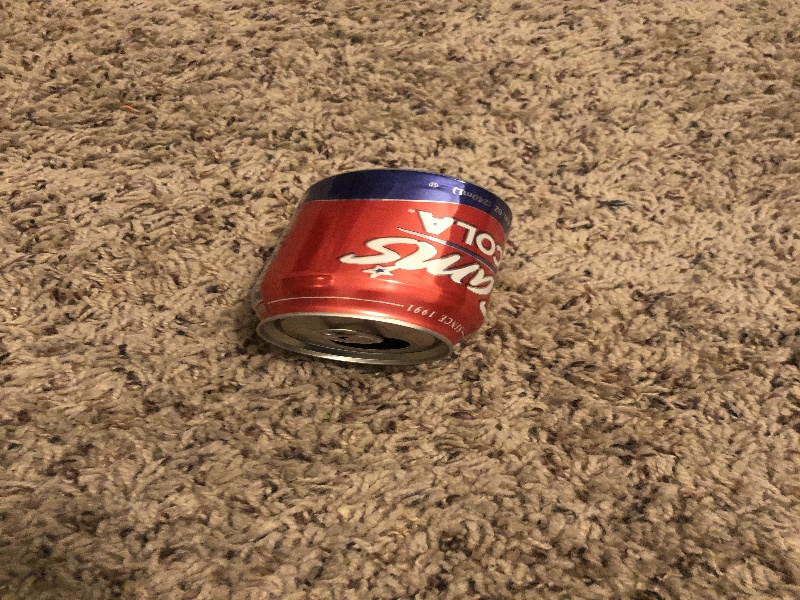metal: (249, 166, 529, 372)
